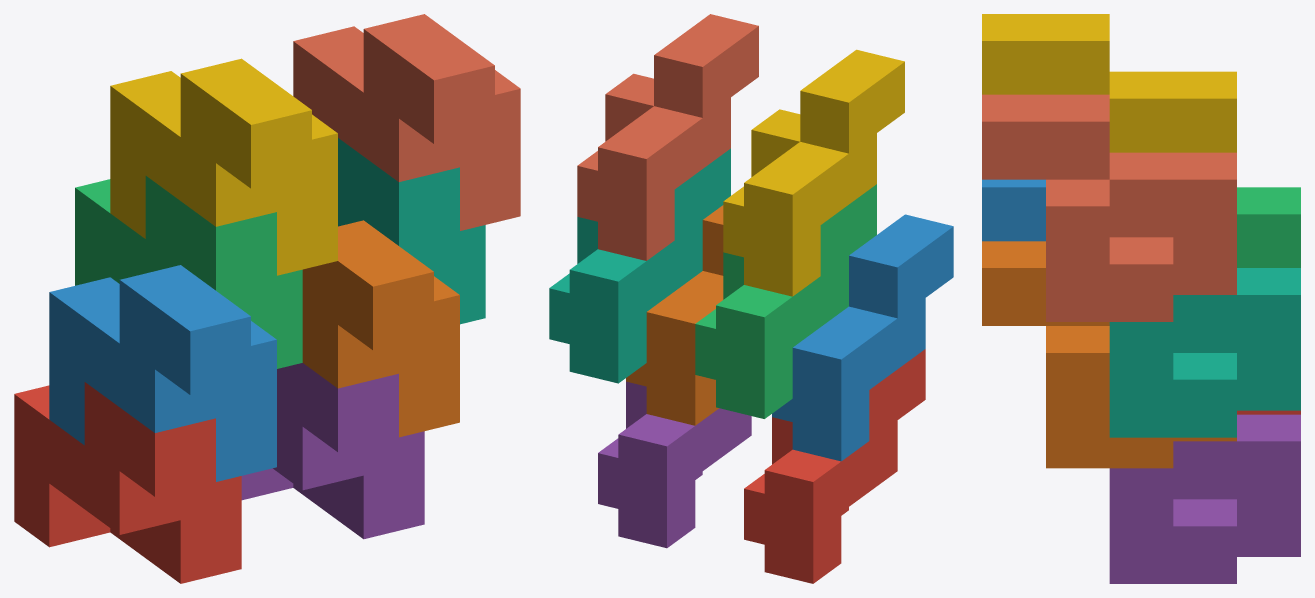
The model's file is tiling.obj.
The picture shows the model from 3 angles, left to right: view 1: azimuth 30°, elevation 25°; view 2: azimuth 150°, elevation 25°; view 3: azimuth 270°, elevation 25°; orthographic projection. The views are drawn at different scales.
Parts seen in each view (by area): view 1: copy_1_domain_2, copy_1_domain_4, copy_1_domain_8, copy_1_domain_1, copy_1_domain_6, copy_1_domain_5, copy_1_domain_3, copy_1_domain_7; view 2: copy_1_domain_8, copy_1_domain_4, copy_1_domain_2, copy_1_domain_1, copy_1_domain_7, copy_1_domain_3, copy_1_domain_5, copy_1_domain_6; view 3: copy_1_domain_8, copy_1_domain_5, copy_1_domain_7, copy_1_domain_4, copy_1_domain_6, copy_1_domain_3, copy_1_domain_2.
Part boxes in pixels (left/top/right/bottom): copy_1_domain_2: left=49, top=265, right=276, bottom=481; copy_1_domain_4: left=110, top=58, right=337, bottom=275; copy_1_domain_8: left=293, top=14, right=520, bottom=230; copy_1_domain_1: left=14, top=382, right=241, bottom=583; copy_1_domain_6: left=302, top=220, right=459, bottom=437; copy_1_domain_5: left=241, top=363, right=424, bottom=539; copy_1_domain_3: left=75, top=176, right=302, bottom=368; copy_1_domain_7: left=338, top=138, right=485, bottom=324; copy_1_domain_8: left=577, top=14, right=758, bottom=260; copy_1_domain_4: left=723, top=49, right=904, bottom=296; copy_1_domain_2: left=772, top=214, right=953, bottom=461; copy_1_domain_1: left=744, top=349, right=925, bottom=583; copy_1_domain_7: left=549, top=148, right=730, bottom=383; copy_1_domain_3: left=695, top=184, right=876, bottom=418; copy_1_domain_5: left=598, top=381, right=751, bottom=548; copy_1_domain_6: left=626, top=205, right=723, bottom=425; copy_1_domain_8: left=982, top=94, right=1236, bottom=321; copy_1_domain_5: left=1109, top=414, right=1300, bottom=583; copy_1_domain_7: left=1109, top=268, right=1300, bottom=437; copy_1_domain_4: left=982, top=14, right=1236, bottom=152; copy_1_domain_6: left=982, top=241, right=1236, bottom=468; copy_1_domain_3: left=1237, top=187, right=1300, bottom=267; copy_1_domain_2: left=982, top=179, right=1045, bottom=241.
Bounding box in the file's own units: 6 × 8 × 5.
